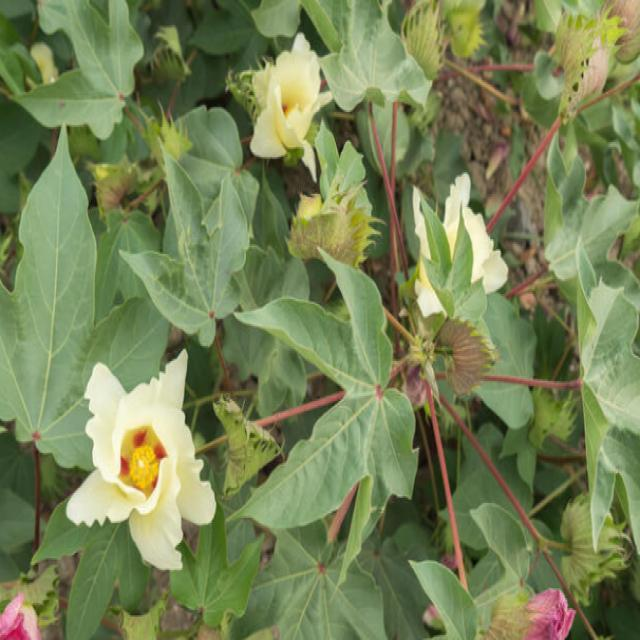Cotton Blossom: (66, 348, 217, 574), (411, 168, 508, 318), (249, 31, 338, 175), (489, 585, 577, 640), (18, 36, 59, 94), (1, 588, 40, 640)
Cotton Bud: (283, 170, 384, 274), (204, 388, 286, 498), (564, 489, 639, 609), (552, 6, 626, 124), (439, 305, 504, 405), (77, 149, 139, 228), (396, 0, 451, 88), (136, 99, 194, 170), (531, 377, 583, 449), (147, 18, 192, 95)
